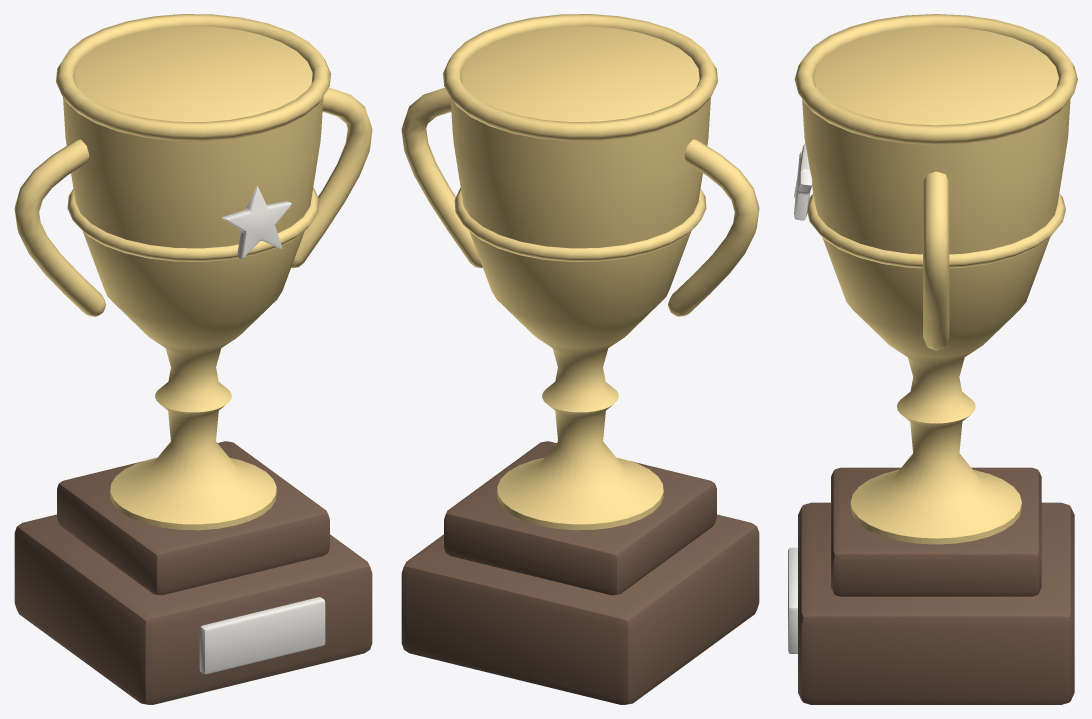
Rendered from trophy.glb.
3 views of the same model, side by side, from view 1: azimuth 30°, elevation 25°; view 2: azimuth 150°, elevation 25°; view 3: azimuth 270°, elevation 25° (orthographic). The views are drawn at different scales.
Visible parts, largest first — view 1: trophy; view 2: trophy; view 3: trophy.
Part boxes in pixels (box(x1,y1,x2,y2)): trophy: box(14, 14, 372, 704); trophy: box(401, 14, 759, 704); trophy: box(788, 14, 1077, 704).
Size of the model in its own units: 0.6399 by 0.971 by 0.44.
